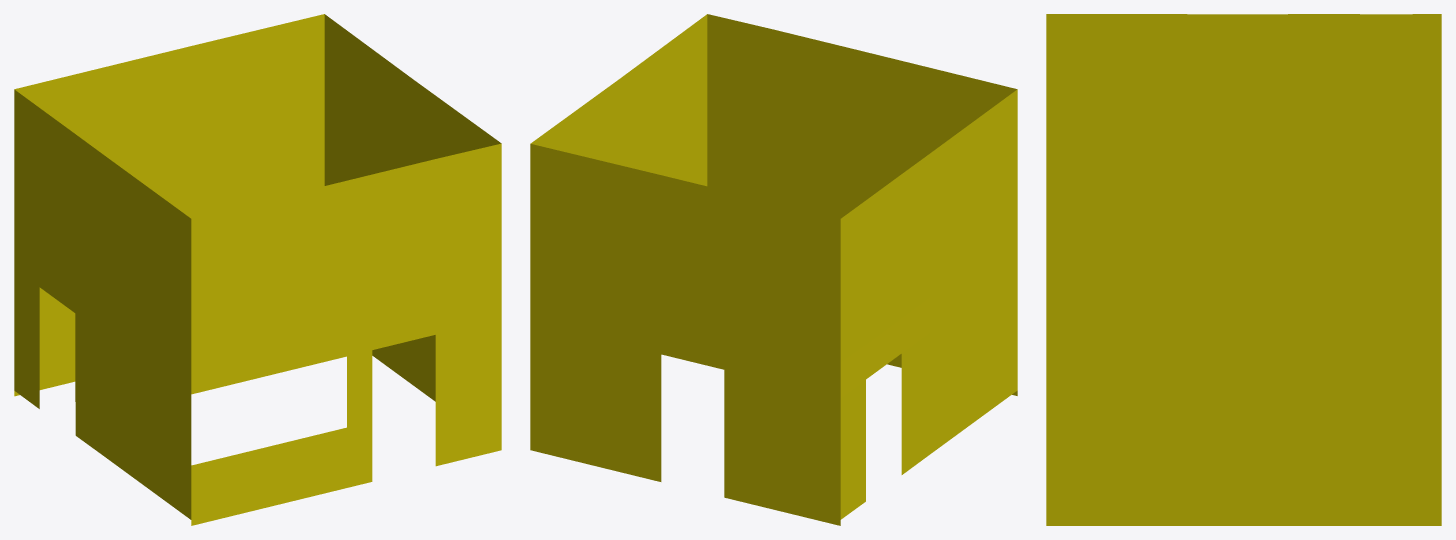
The picture shows the model from 3 angles, left to right: view 1: azimuth 30°, elevation 25°; view 2: azimuth 150°, elevation 25°; view 3: azimuth 270°, elevation 25°; orthographic projection. The views are drawn at different scales.
Visible parts, largest first — view 1: W_02B_WP_02; view 2: W_02B_WP_02; view 3: W_02B_WP_02.
Boxes of the visible parts, x1=… form: W_02B_WP_02: x1=14, y1=14, x2=501, y2=525; W_02B_WP_02: x1=530, y1=14, x2=1017, y2=525; W_02B_WP_02: x1=1046, y1=14, x2=1441, y2=525.
Bounding box in the file's own units: 597 × 565 × 590.
